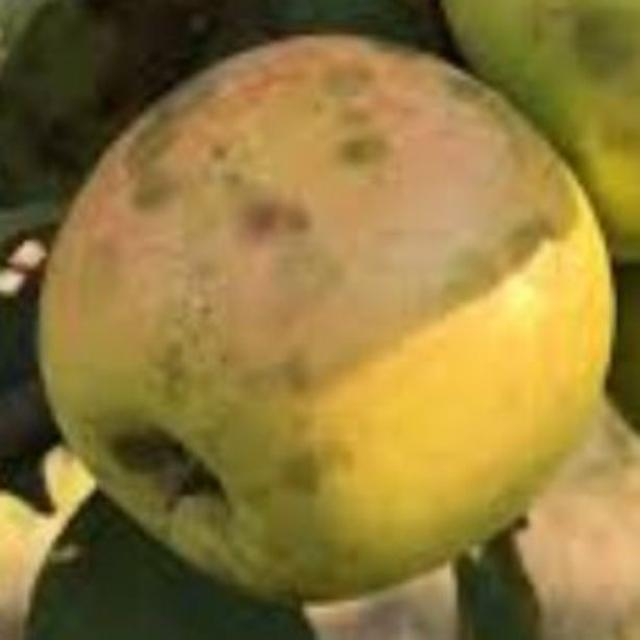Rotten Apple: (31, 23, 624, 614)
